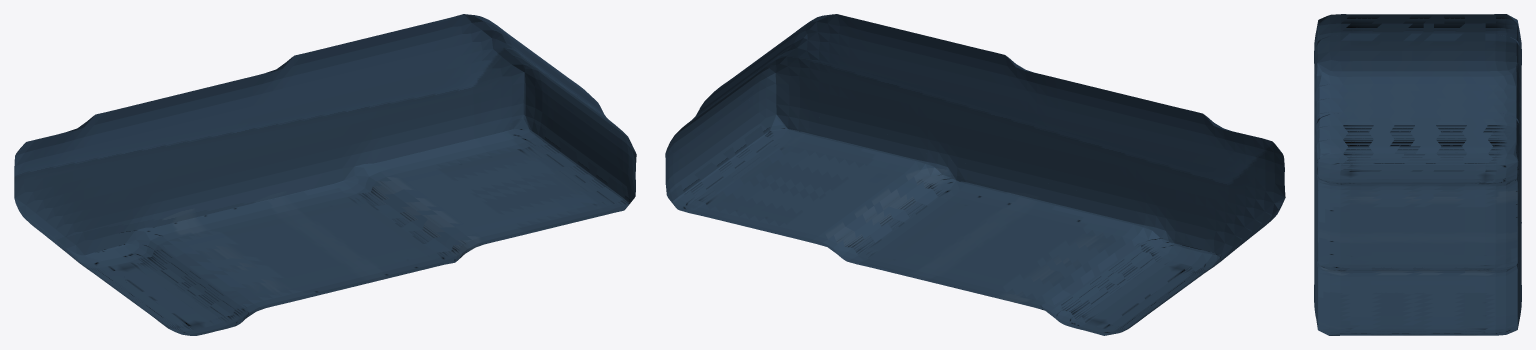
3 renders of one model, left to right at view 1: azimuth 30°, elevation 25°; view 2: azimuth 150°, elevation 25°; view 3: azimuth 270°, elevation 25°, orthographic. The views are drawn at different scales.
Visible parts, largest first — view 1: model; view 2: model; view 3: model.
Part boxes in pixels (left/top/right/bottom): model: left=14, top=14, right=636, bottom=335; model: left=665, top=14, right=1285, bottom=335; model: left=1314, top=14, right=1521, bottom=335.
Size of the model in its own units: 1 by 0.2911 by 0.3832.
1 material, 1 textured.
